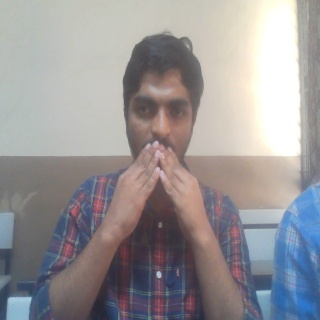Thank You: (101, 143, 214, 237)
